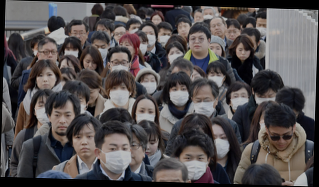with_mask: (101, 141, 133, 175), (179, 151, 208, 181), (193, 94, 216, 117), (109, 83, 130, 107), (169, 84, 189, 108), (213, 132, 230, 160), (34, 99, 51, 125), (134, 106, 156, 125), (139, 74, 158, 94), (230, 91, 249, 111), (109, 57, 130, 74), (254, 91, 277, 106), (208, 70, 224, 88), (142, 29, 157, 47), (93, 42, 108, 58), (157, 30, 172, 46), (64, 45, 80, 59), (255, 22, 267, 37), (138, 40, 149, 56)
without_mask: (72, 129, 96, 157), (51, 109, 75, 136), (268, 129, 294, 152), (129, 138, 144, 167), (188, 33, 209, 53), (35, 70, 57, 89), (70, 28, 87, 47), (39, 47, 58, 63), (145, 136, 160, 156), (209, 20, 226, 37), (82, 56, 98, 71), (235, 45, 250, 60), (177, 22, 191, 37), (225, 27, 240, 41), (113, 29, 126, 42), (209, 44, 223, 56)
